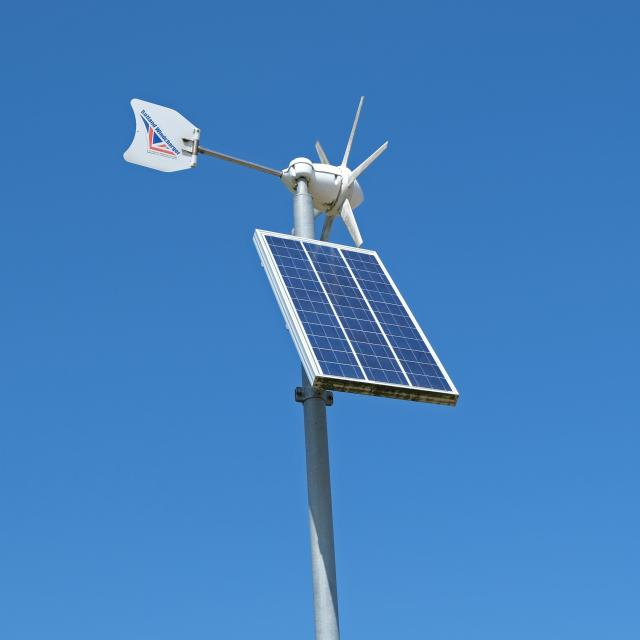no faulty: (254, 233, 458, 399)
